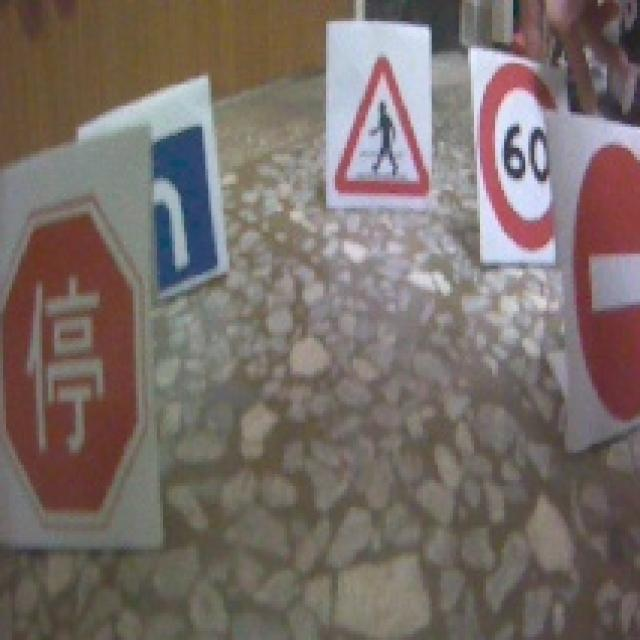DoNotEnterSign: (570, 142, 640, 419)
